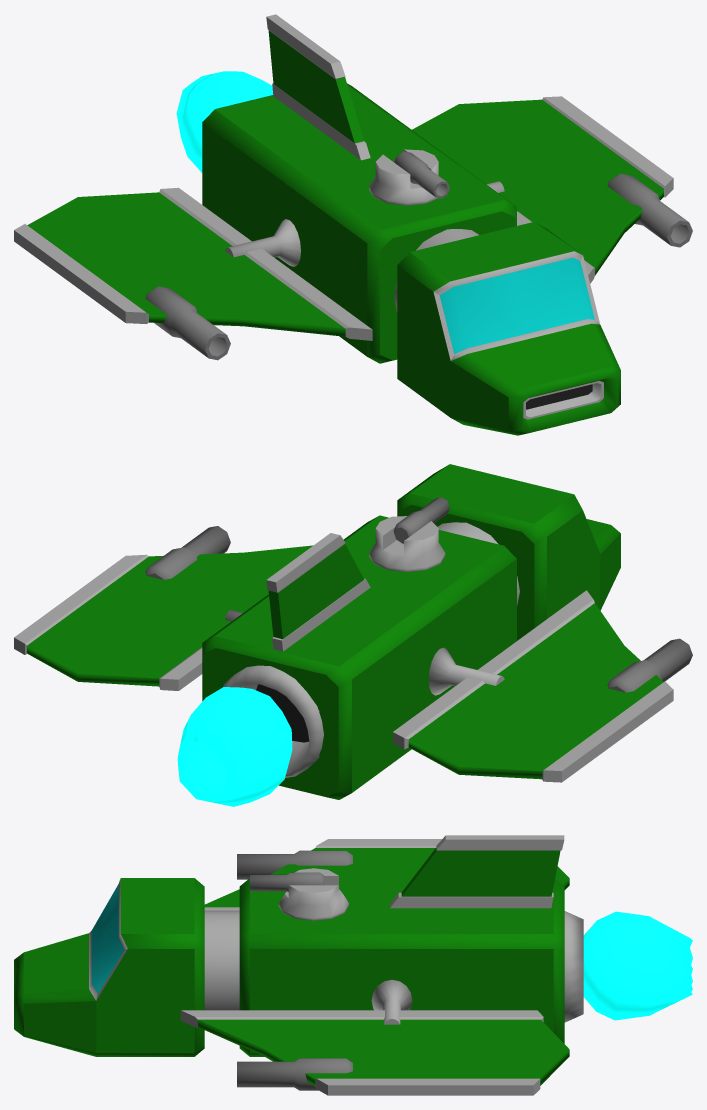
Rendered from Neptune.fbx.
3 renders of one model, top to bottom at view 1: azimuth 30°, elevation 25°; view 2: azimuth 150°, elevation 25°; view 3: azimuth 270°, elevation 25°, orthographic. The views are drawn at different scales.
Visible parts, largest first — view 1: Neptune_Secondary, Neptune_Primary, Neptune_Exhaust_Flame, Neptune_Gun_Middle, Neptune_Gun_Right, Neptune_Gun_Left; view 2: Neptune_Secondary, Neptune_Primary, Neptune_Exhaust_Flame, Neptune_Gun_Middle, Neptune_Gun_Right, Neptune_Gun_Left; view 3: Neptune_Secondary, Neptune_Primary, Neptune_Exhaust_Flame, Neptune_Gun_Middle, Neptune_Gun_Left, Neptune_Gun_Right.
Part boxes in pixels (x1,y1,x2,y2): Neptune_Secondary: [14, 14, 673, 363]; Neptune_Primary: [397, 222, 620, 435]; Neptune_Exhaust_Flame: [176, 71, 273, 172]; Neptune_Gun_Middle: [369, 149, 449, 205]; Neptune_Gun_Right: [145, 286, 230, 360]; Neptune_Gun_Left: [607, 173, 692, 247]; Neptune_Secondary: [14, 515, 673, 799]; Neptune_Primary: [397, 464, 620, 640]; Neptune_Exhaust_Flame: [177, 687, 292, 806]; Neptune_Gun_Middle: [369, 497, 449, 571]; Neptune_Gun_Right: [607, 638, 692, 692]; Neptune_Gun_Left: [145, 526, 230, 579]; Neptune_Secondary: [180, 835, 583, 1095]; Neptune_Primary: [14, 878, 204, 1056]; Neptune_Exhaust_Flame: [583, 911, 692, 1020]; Neptune_Gun_Middle: [250, 868, 348, 920]; Neptune_Gun_Left: [237, 1058, 352, 1090]; Neptune_Gun_Right: [237, 850, 352, 879].
Bounding box in the file's own units: 318 × 116 × 371.
